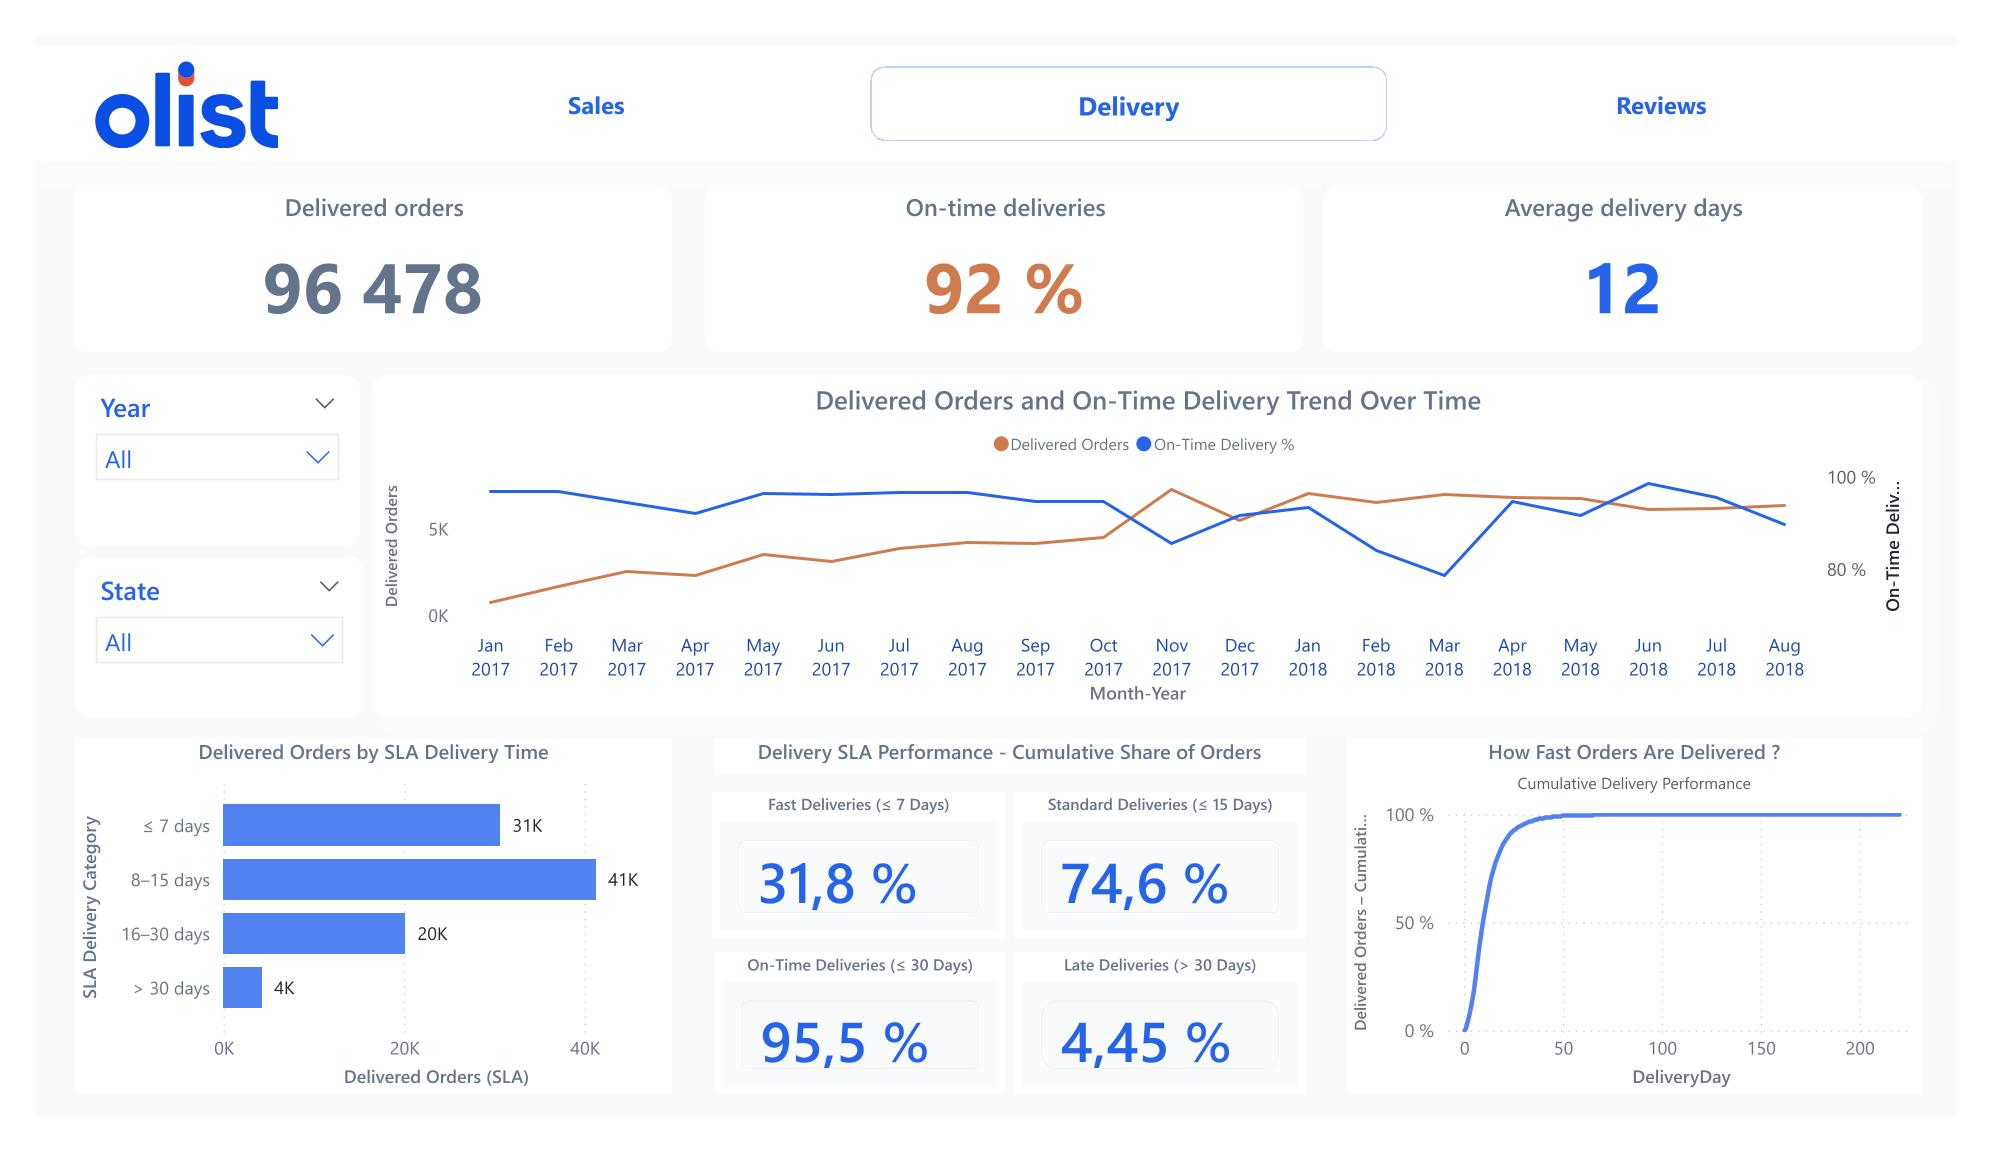

The page's visual inventory and layout, read from the dashboard file:
{"tool":"powerbi","page":{"name":"Delivery","canvas":[1280,720],"ordinal":1},"visuals":[{"type":"group","id":"g1","title":"Group 1","box":[0,5.6,1280,78.9],"z":0},{"type":"shape","box":[0,5.6,1280,78.9],"z":0,"group":"g1"},{"type":"pageNavigator","box":[201.1,20,1055.6,50],"z":1000,"group":"g1"},{"type":"card","title":"Delivered orders","fields":{"Values":["_measures.Delivered Orders"]},"box":[25,99,399,112],"z":1000},{"type":"actionButton","box":[12.6,10.5,175.2,69.2],"z":2000,"group":"g1"},{"type":"card","title":"On-time deliveries","fields":{"Values":["_measures.On-Time Delivery %"]},"box":[446.4,99.1,399,112],"z":2000},{"type":"card","title":"Average delivery days","fields":{"Values":["_measures.Avg Delivery Days"]},"box":[858,98.6,398.7,112.3],"z":3000},{"type":"slicer","fields":{"Values":["d_date.Year"]},"box":[25.6,225.6,190,114.4],"z":3000},{"type":"lineChart","title":"Delivered Orders and On-Time Delivery Trend Over Time","fields":{"Category":["d_date.MonthYear"],"Y":["_measures.Delivered Orders"],"Y2":["_measures.On-Time Delivery %"]},"box":[224.4,225.6,1032.2,228.9],"z":4000},{"type":"clusteredBarChart","title":"Delivered Orders by SLA Delivery Time","fields":{"Category":["f_orders.delivery_sla_bucket"],"Y":["_measures.Delivered Orders (SLA)"]},"box":[25.6,467.8,398.9,237.8],"z":5000},{"type":"lineChart","title":"How Fast Orders Are Delivered  ?","fields":{"Category":["d_delivery_days.DeliveryDay"],"Y":["_measures.Delivery CDF %"]},"box":[874.4,467.8,382.2,237.8],"z":6000},{"type":"cardVisual","title":"Fast Deliveries (≤ 7 Days)","fields":{"Data":["_measures.Delivered ≤ 7d %"]},"box":[451.1,504.4,194.4,97.8],"z":7000},{"type":"cardVisual","title":"Standard Deliveries (≤ 15 Days)","fields":{"Data":["_measures.Delivered ≤ 15d %"]},"box":[653.3,504.4,192.2,97.8],"z":8000},{"type":"cardVisual","title":"On-Time Deliveries (≤ 30 Days)","fields":{"Data":["_measures.Delivered ≤ 30d %"]},"box":[453.3,611.1,192.2,94.4],"z":9000},{"type":"cardVisual","title":"Late Deliveries (> 30 Days)","fields":{"Data":["_measures.Delivered > 30d %"]},"box":[653.3,611.1,192.2,94.4],"z":10000},{"type":"slicer","fields":{"Values":["d_customers.customer_state"]},"box":[25.6,347.8,193.3,106.7],"z":12000},{"type":"textbox","title":"Delivery SLA Performance - Cumulative Share of Orders","box":[452.2,467.8,393.3,25.6],"z":13000}]}

Visuals, with their boxes in screenshot pixels (x1, y1, x2, y2), scaled from the page's 1280x720 canvas onto the 1992x1152 screenshot:
"Group 1" group: detection(0, 9, 1991, 135)
shape: detection(0, 9, 1991, 135)
pageNavigator: detection(313, 32, 1956, 112)
"Delivered orders" card: detection(39, 158, 660, 338)
actionButton: detection(20, 17, 292, 128)
"On-time deliveries" card: detection(695, 159, 1316, 338)
"Average delivery days" card: detection(1335, 158, 1956, 337)
slicer - d_date.Year: detection(40, 361, 336, 544)
"Delivered Orders and On-Time Delivery Trend Over Time" lineChart: detection(349, 361, 1956, 727)
"Delivered Orders by SLA Delivery Time" clusteredBarChart: detection(40, 748, 661, 1129)
"How Fast Orders Are Delivered  ?" lineChart: detection(1361, 748, 1956, 1129)
"Fast Deliveries (≤ 7 Days)" cardVisual: detection(702, 807, 1005, 964)
"Standard Deliveries (≤ 15 Days)" cardVisual: detection(1017, 807, 1316, 964)
"On-Time Deliveries (≤ 30 Days)" cardVisual: detection(705, 978, 1005, 1129)
"Late Deliveries (> 30 Days)" cardVisual: detection(1017, 978, 1316, 1129)
slicer - d_customers.customer_state: detection(40, 556, 341, 727)
"Delivery SLA Performance - Cumulative Share of Orders" textbox: detection(704, 748, 1316, 789)
